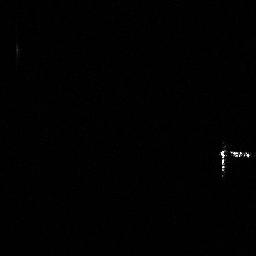ship: (215, 146, 256, 180)
